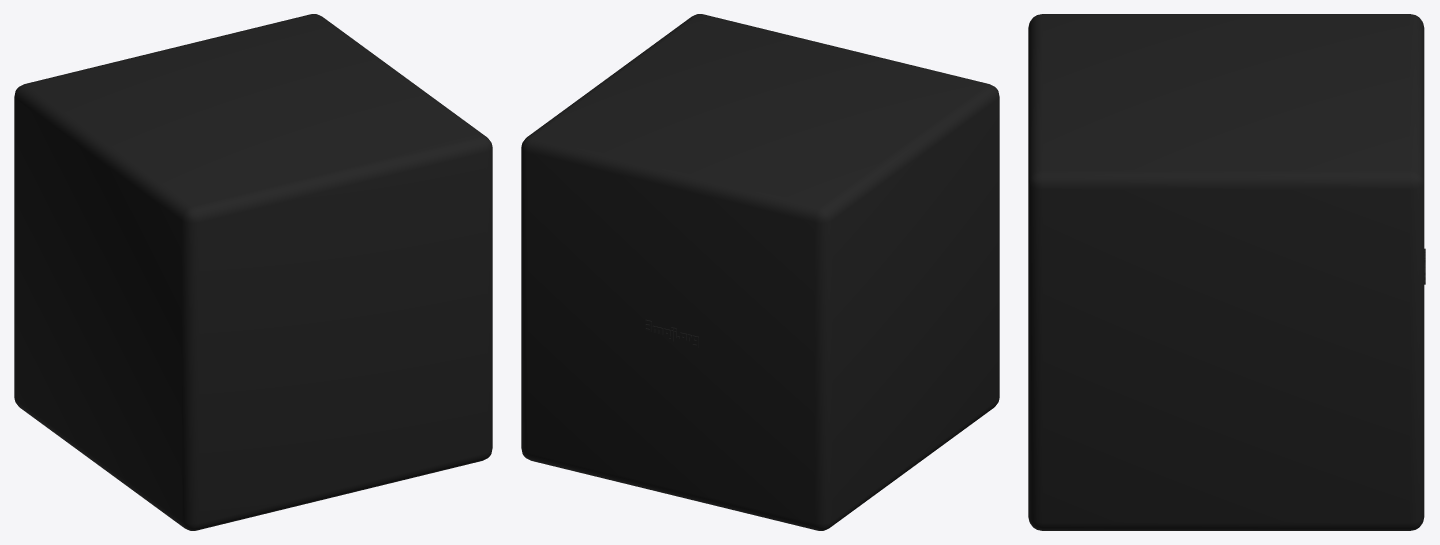
File: black_medium_square.glb
3 views of the same model, side by side, from view 1: azimuth 30°, elevation 25°; view 2: azimuth 150°, elevation 25°; view 3: azimuth 270°, elevation 25° (orthographic). The views are drawn at different scales.
Parts seen in each view (by area): view 1: brown_square.003; view 2: brown_square.003; view 3: brown_square.003.
Boxes of the visible parts, x1,y1,x2,y2 form: brown_square.003: (14,14,492,530); brown_square.003: (521,14,999,530); brown_square.003: (1028,14,1425,530).
Size of the model in its own units: 1.53 by 1.53 by 1.54.
1 material, 1 textured.
